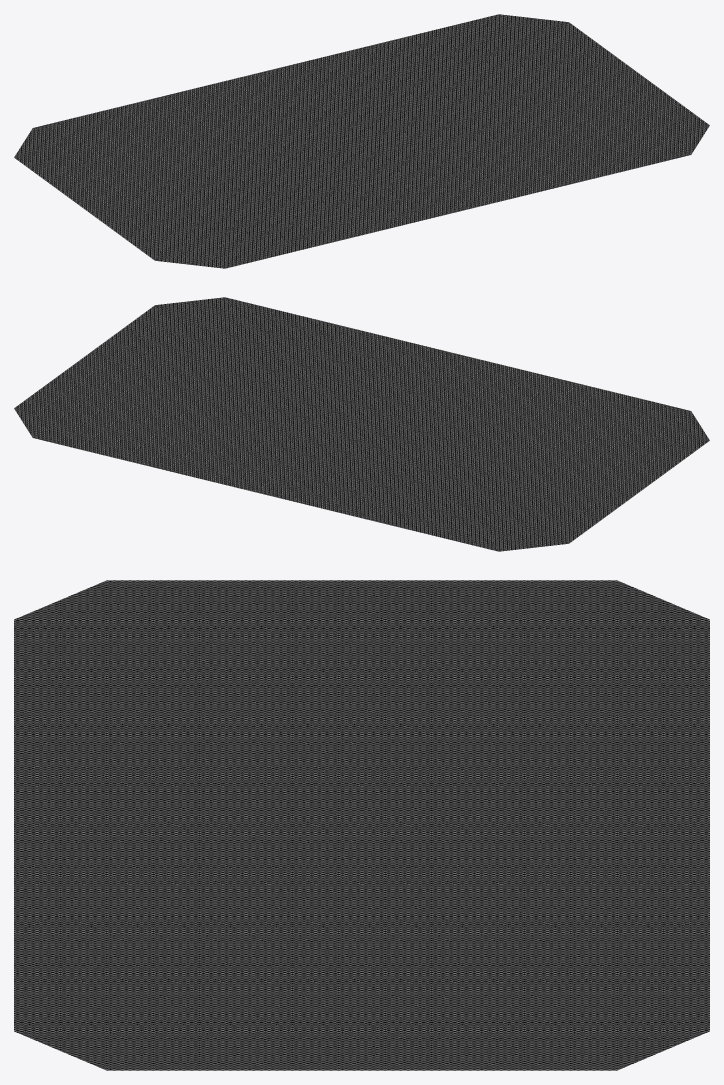
The model's file is newTecho.fbx.
The picture shows the model from 3 angles, top to bottom: view 1: azimuth 30°, elevation 25°; view 2: azimuth 150°, elevation 25°; view 3: azimuth 270°, elevation 25°; orthographic projection. The views are drawn at different scales.
Visible parts, largest first — view 1: newTecho; view 2: newTecho; view 3: newTecho.
Part boxes in pixels (x1,y1,x2,y2): newTecho: [14, 14, 709, 268]; newTecho: [14, 297, 709, 551]; newTecho: [14, 580, 709, 1070].
Bounding box in the file's own units: 1969 × 5.68e-14 × 1181.
